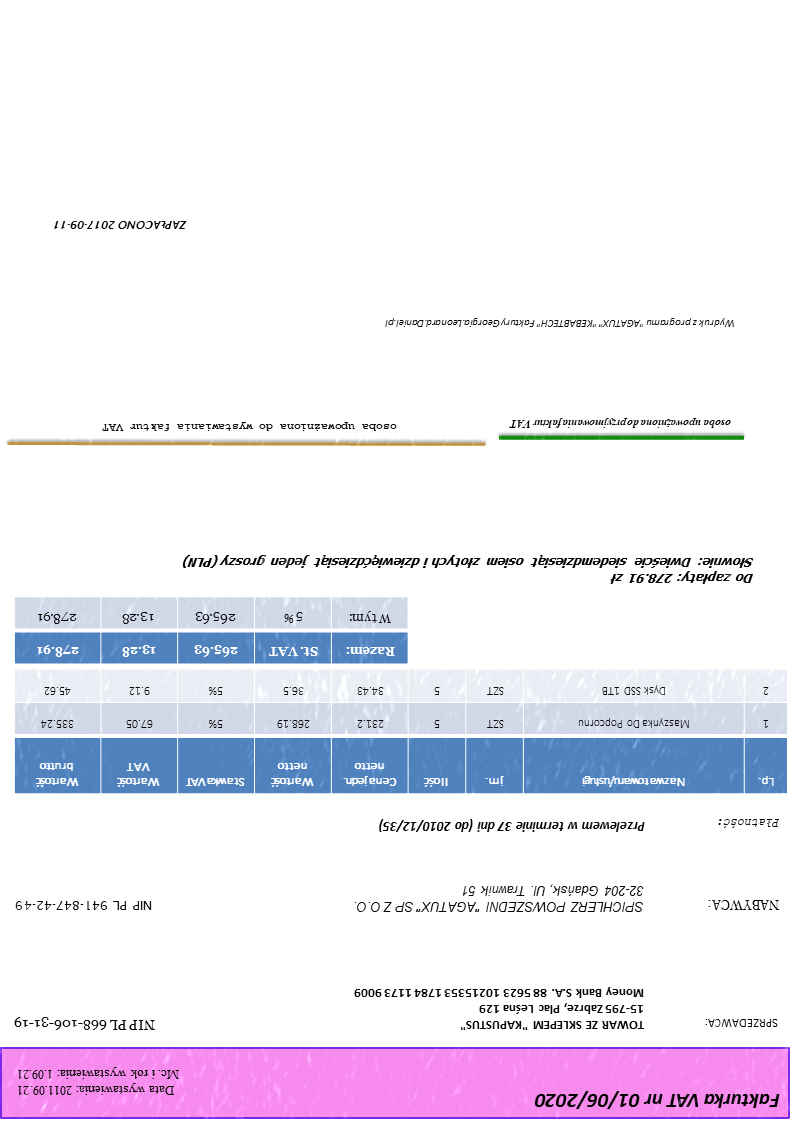Table: (13, 666, 789, 796), (13, 596, 409, 666)
TextBox: (180, 551, 756, 588), (354, 985, 648, 1032), (350, 882, 647, 917), (16, 1065, 184, 1101), (533, 1088, 782, 1111), (383, 315, 736, 331), (378, 816, 648, 835), (100, 420, 399, 435), (508, 415, 733, 431), (13, 1013, 159, 1034), (13, 897, 154, 913), (52, 218, 189, 234), (706, 897, 782, 914), (704, 1015, 781, 1031), (717, 816, 781, 832)
